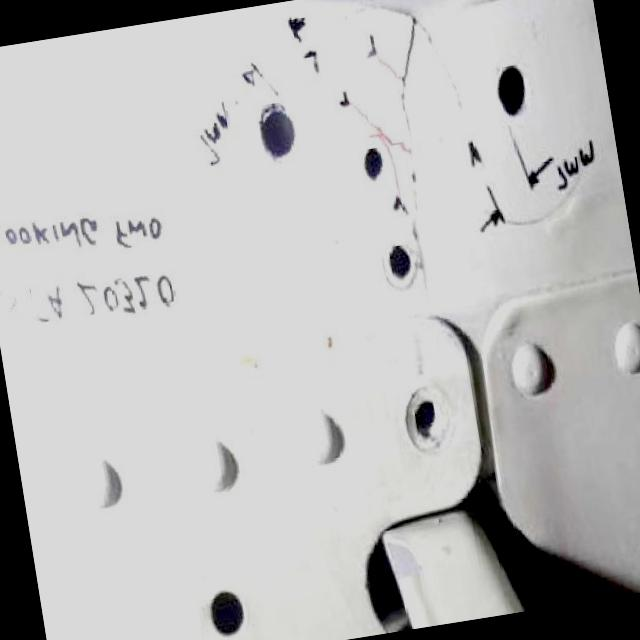crack: (381, 17, 458, 296)
